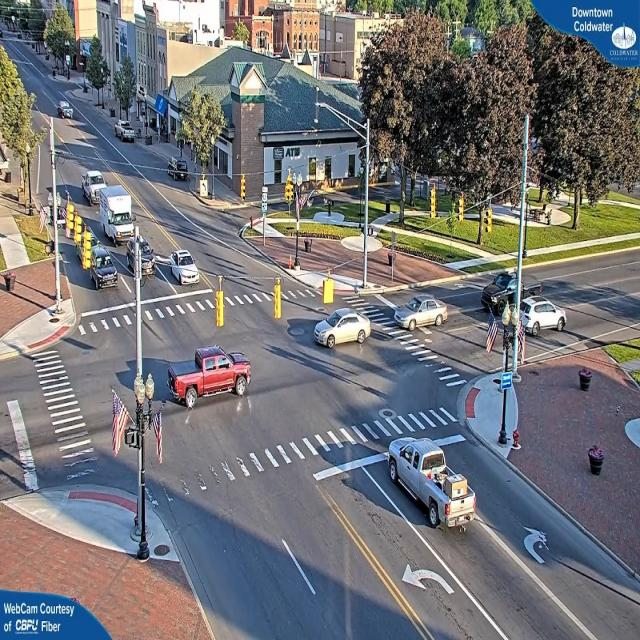car: (385, 439, 476, 537), (167, 338, 251, 402), (480, 265, 541, 318), (316, 310, 367, 348), (399, 295, 444, 329), (524, 299, 566, 335), (125, 234, 157, 278), (91, 244, 118, 292), (168, 250, 200, 285), (117, 124, 136, 143), (58, 103, 74, 122)
truck: (102, 184, 138, 245), (81, 169, 105, 203)
